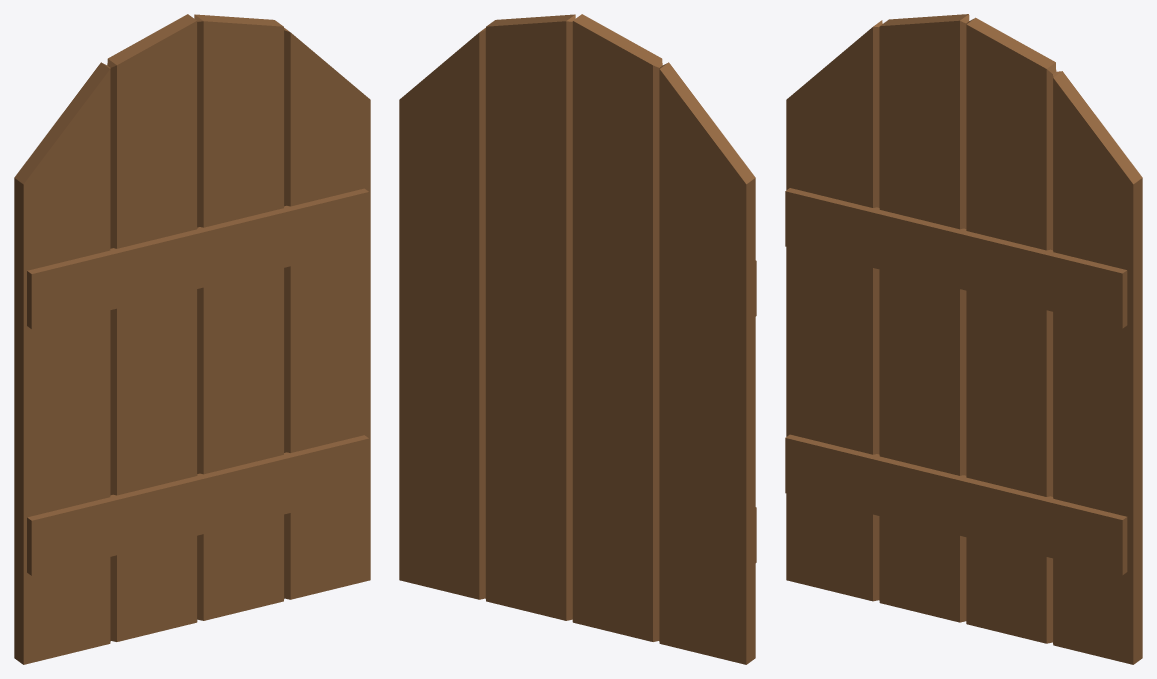
The model's file is Castle_gate_2_mat.fbx.
3 views of the same model, side by side, from view 1: azimuth 30°, elevation 25°; view 2: azimuth 150°, elevation 25°; view 3: azimuth 330°, elevation 25° (orthographic).
Visible parts, largest first — view 1: Castle_gate_2_mat; view 2: Castle_gate_2_mat; view 3: Castle_gate_2_mat.
Boxes of the visible parts, box(x1,y1,x2,y2) form: Castle_gate_2_mat: box(14, 14, 370, 664); Castle_gate_2_mat: box(399, 14, 756, 664); Castle_gate_2_mat: box(785, 14, 1142, 664).
Bounding box in the file's own units: 1.25 × 2.08 × 0.0865.
